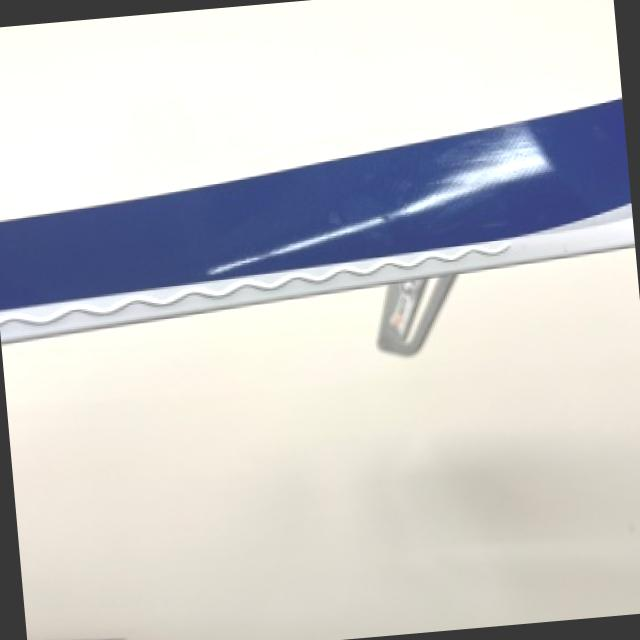healthy: (0, 99, 634, 350)
